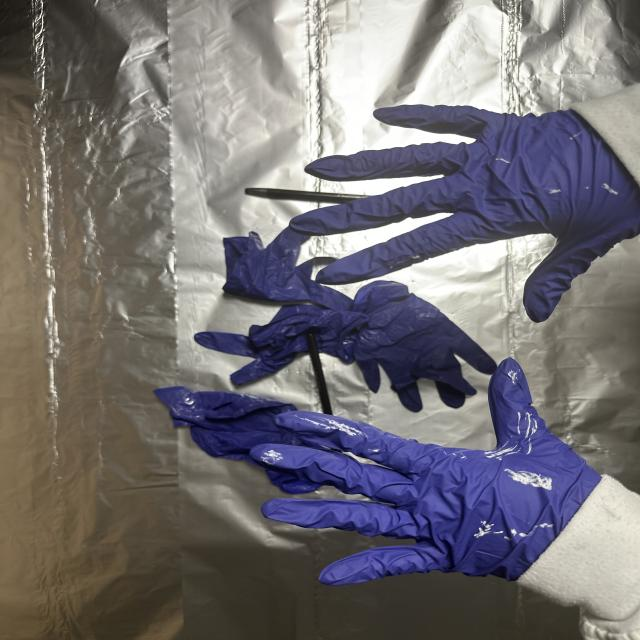gloves_contaminated: (250, 358, 602, 585), (290, 106, 640, 322)
